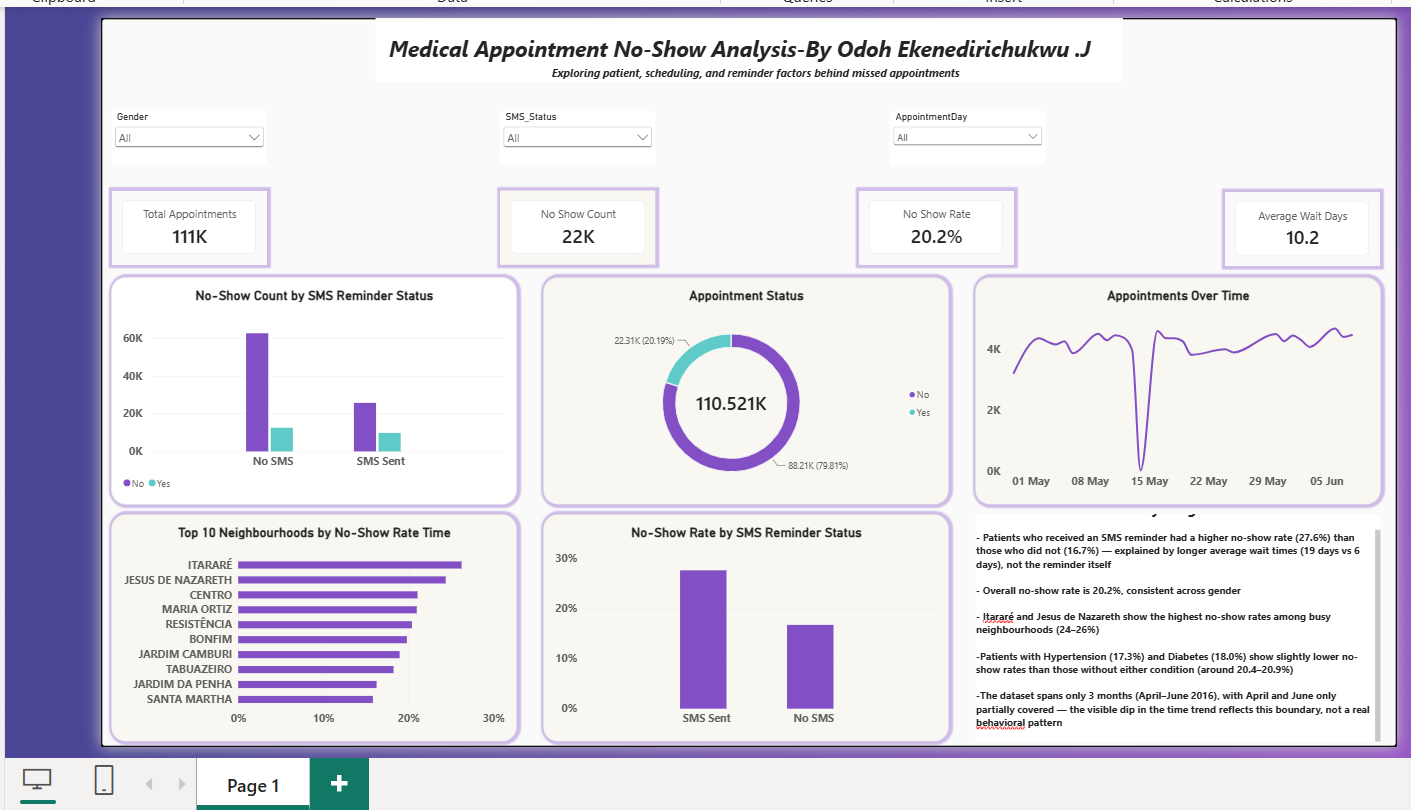

Layout of this report page (visuals, bound fields, positions):
{"tool":"powerbi","page":{"name":"Page 1","canvas":[1920,1080],"ordinal":0},"visuals":[{"type":"cardVisual","fields":{"Data":["appointments.Total Appointments"]},"box":[16,256,230,110],"z":0},{"type":"cardVisual","fields":{"Data":["appointments.No Show Count"]},"box":[592,256,230,110],"z":1000},{"type":"cardVisual","fields":{"Data":["appointments.No Show Rate"]},"box":[1121.7,254.5,230,110],"z":2000},{"type":"cardVisual","fields":{"Data":["appointments.Average Wait Days"]},"box":[1665.3,256.7,230,110],"z":3000},{"type":"textbox","box":[406.2,0,1107.5,95],"z":4000},{"type":"clusteredColumnChart","title":"No-Show Count by SMS Reminder Status","fields":{"Y":["CountNonNull(appointments.PatientId)"],"Series":["appointments.No_show"],"Category":["appointments.SMS_Status"]},"box":[16,384,600,336],"z":5000},{"type":"donutChart","title":"Appointment Status","fields":{"Y":["CountNonNull(appointments.PatientId)"],"Category":["appointments.No_show"]},"box":[656,384,600,336],"z":6000},{"type":"lineChart","title":"Appointments Over Time","fields":{"Y":["CountNonNull(appointments.PatientId)"],"Category":["appointments.AppointmentDay"]},"box":[1296,384,600,336],"z":7000},{"type":"clusteredBarChart","title":"Top 10 Neighbourhoods by No-Show Rate Time","fields":{"Category":["appointments.Neighbourhood"],"Y":["appointments.No Show Rate"]},"box":[16,736,600,336],"z":8000},{"type":"clusteredColumnChart","title":"No-Show Rate by SMS Reminder Status","fields":{"Category":["appointments.SMS_Status"],"Y":["appointments.No Show Rate"]},"box":[656,736,600,336],"z":9000},{"type":"slicer","fields":{"Values":["appointments.Gender"]},"box":[16,138.7,230,80],"z":10000},{"type":"slicer","fields":{"Values":["appointments.SMS_Status"]},"box":[592,138.7,230,80],"z":11000},{"type":"slicer","fields":{"Values":["appointments.AppointmentDay"]},"box":[1168,138.7,230,80],"z":12000},{"type":"textbox","box":[1295.5,736.4,600,336.4],"z":13000}]}

Visuals, with their boxes on the page's 1920x1080 design canvas (x1, y1, x2, y2). These are canvas units, not pixel positions in the 1411x810 screenshot, which may show the page scaled, cropped or inside an application window:
cardVisual - appointments.Total Appointments: <box>16,256,246,366</box>
cardVisual - appointments.No Show Count: <box>592,256,822,366</box>
cardVisual - appointments.No Show Rate: <box>1122,254,1352,364</box>
cardVisual - appointments.Average Wait Days: <box>1665,257,1895,367</box>
textbox: <box>406,0,1514,95</box>
"No-Show Count by SMS Reminder Status" clusteredColumnChart: <box>16,384,616,720</box>
"Appointment Status" donutChart: <box>656,384,1256,720</box>
"Appointments Over Time" lineChart: <box>1296,384,1896,720</box>
"Top 10 Neighbourhoods by No-Show Rate Time" clusteredBarChart: <box>16,736,616,1072</box>
"No-Show Rate by SMS Reminder Status" clusteredColumnChart: <box>656,736,1256,1072</box>
slicer - appointments.Gender: <box>16,139,246,219</box>
slicer - appointments.SMS_Status: <box>592,139,822,219</box>
slicer - appointments.AppointmentDay: <box>1168,139,1398,219</box>
textbox: <box>1296,736,1896,1073</box>
